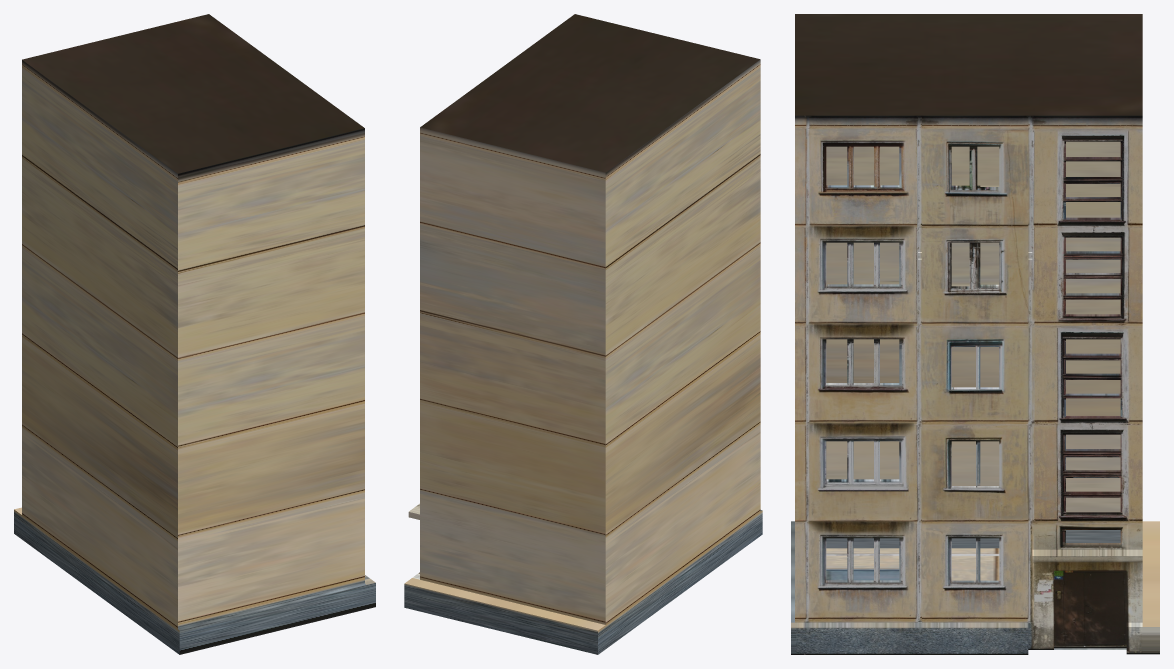
The model's file is DOM.glb.
3 renders of one model, left to right at view 1: azimuth 30°, elevation 25°; view 2: azimuth 150°, elevation 25°; view 3: azimuth 270°, elevation 25°, orthographic. The views are drawn at different scales.
Visible parts, largest first — view 1: Cube; view 2: Cube; view 3: Cube.
Part boxes in pixels (x1=…): Cube: x1=14, y1=14, x2=375, y2=654; Cube: x1=404, y1=14, x2=762, y2=654; Cube: x1=791, y1=14, x2=1159, y2=654.
Bounding box in the file's own units: 6.04 × 13.94 × 8.72.
2 materials, 1 textured.
